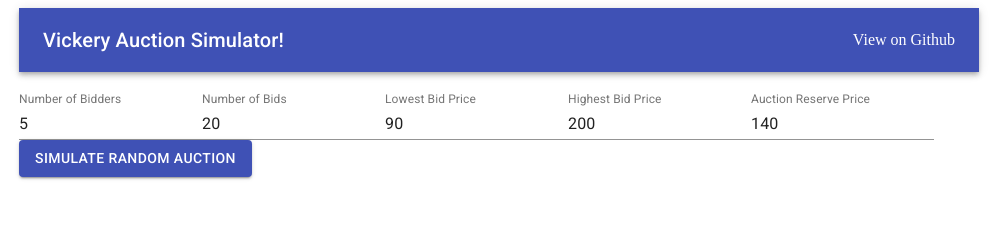
Test case: the App component › performs the correct actions › renders the winning bid information if it is provided
What coordinates should you click on to do the following:
click the button with id "RunAuction"
I would click on:
 (136, 158)
Its box is left=19, top=140, right=252, bottom=176.
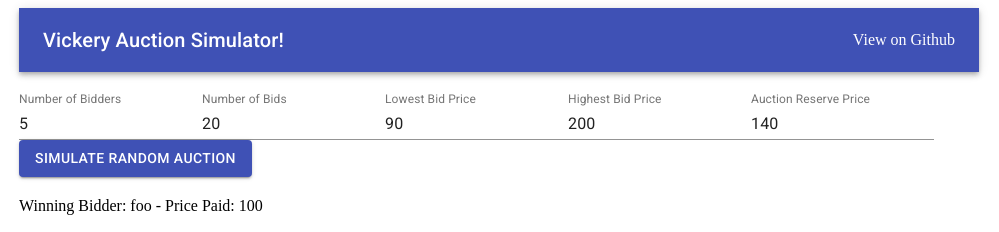
Result: the text with class "bidDisplay-winningBid" reads "Winning Bidder: foo - Price Paid: 100" at left=19, top=196, right=263, bottom=214
